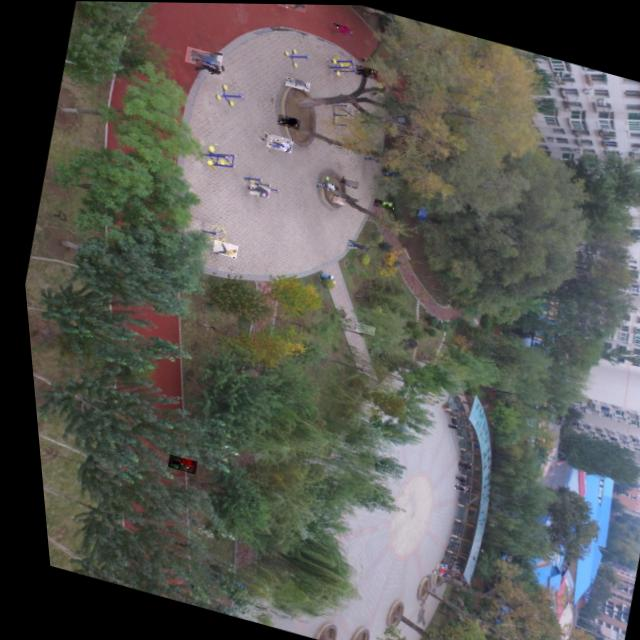Person: (181, 45, 222, 70), (190, 58, 224, 79), (157, 453, 188, 474), (261, 132, 291, 152), (206, 238, 234, 258), (281, 75, 308, 90), (273, 113, 298, 129), (351, 63, 376, 78), (243, 182, 266, 197), (347, 320, 369, 335), (310, 178, 335, 191), (330, 21, 352, 35), (341, 238, 364, 251), (275, 3, 308, 12), (368, 196, 390, 209), (334, 174, 354, 186), (327, 193, 341, 204), (443, 482, 460, 491), (444, 472, 459, 482), (422, 565, 435, 575), (447, 458, 461, 467), (441, 557, 455, 566), (437, 533, 450, 542), (438, 422, 454, 429), (425, 561, 436, 568)
